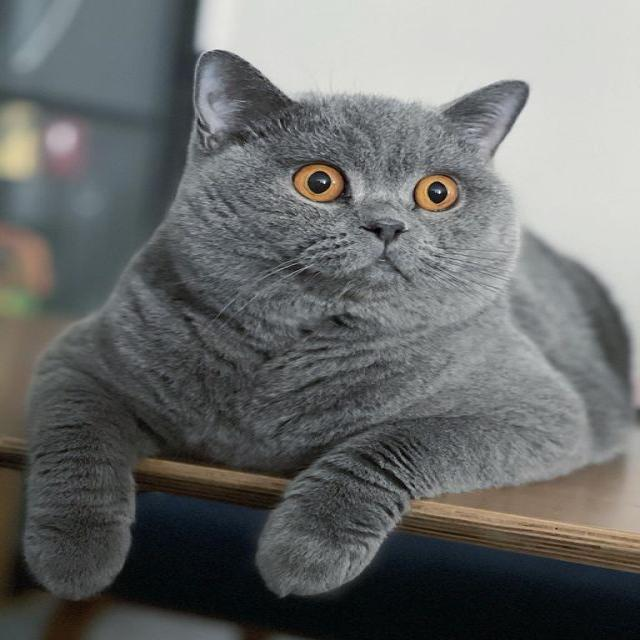british shorthair: (33, 31, 619, 587)
